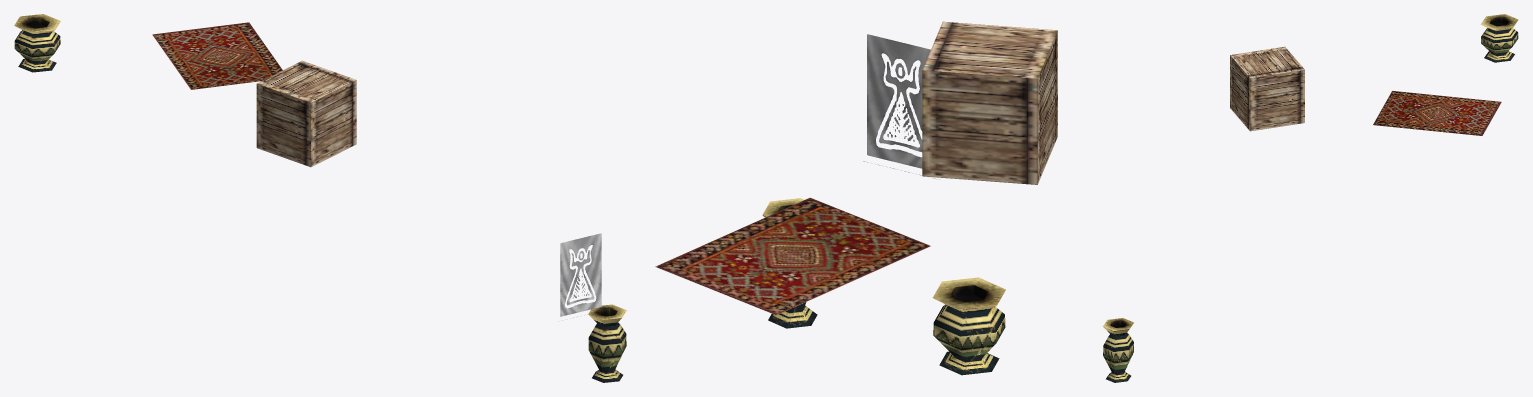
File: kart_house_c_1.dae
The picture shows the model from 3 angles, left to right: view 1: azimuth 30°, elevation 25°; view 2: azimuth 150°, elevation 25°; view 3: azimuth 270°, elevation 25°; orthographic projection. The views are drawn at different scales.
Parts seen in each view (by area): view 1: Object15; view 2: Object15; view 3: Object15.
Boxes of the visible parts, x1,y1,x2,y2 form: Object15: [14, 14, 626, 382]; Object15: [655, 21, 1057, 375]; Object15: [1103, 14, 1518, 382].
Bounding box in the file's own units: 9.15 × 6.52 × 11.09.
